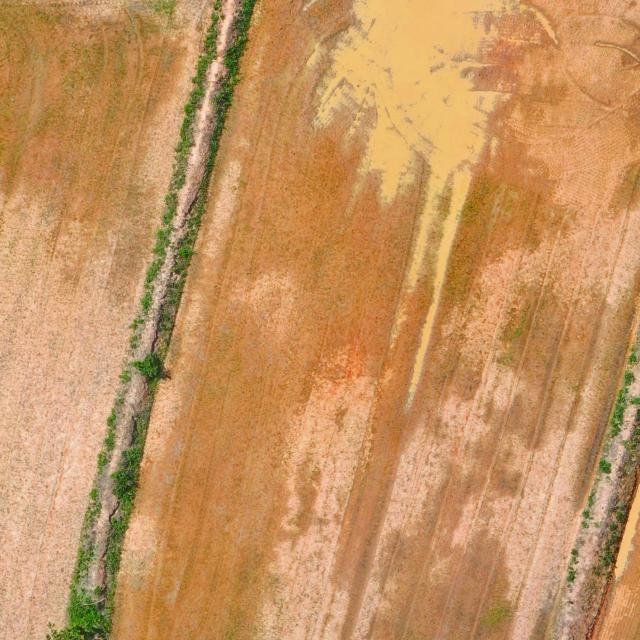Tree: (44, 602, 111, 640)
